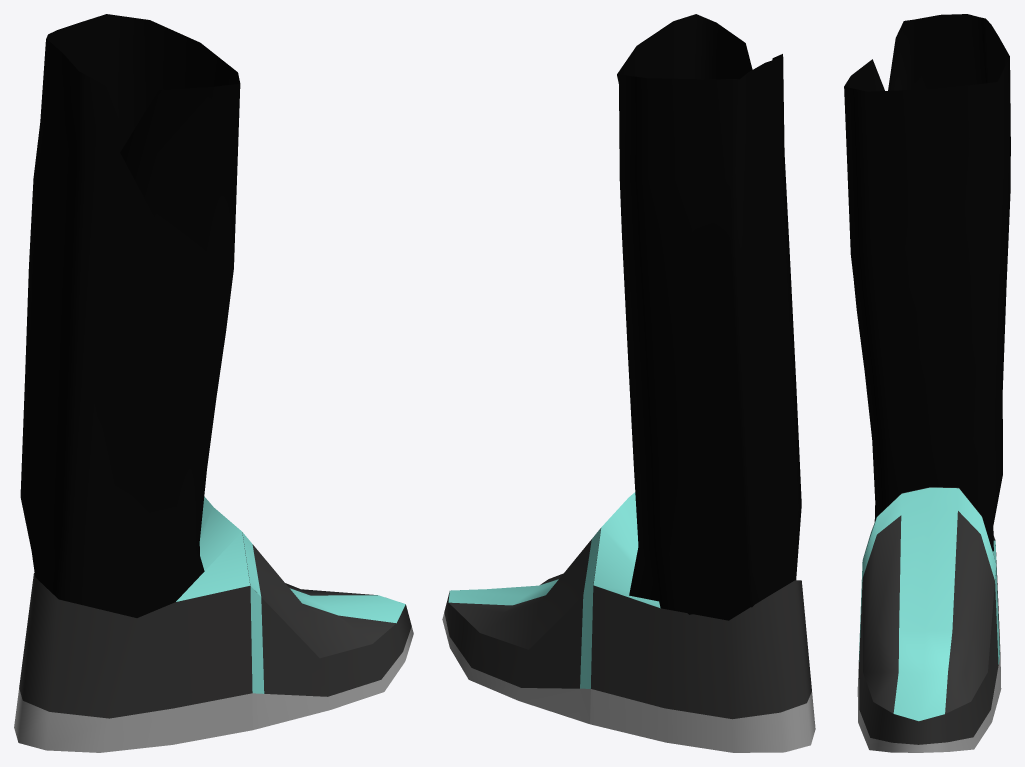
File: Shoe1full.fbx
3 views of the same model, side by side, from view 1: azimuth 30°, elevation 25°; view 2: azimuth 150°, elevation 25°; view 3: azimuth 270°, elevation 25° (orthographic). The views are drawn at different scales.
Parts seen in each view (by area): view 1: pCube185; view 2: pCube185; view 3: pCube185.
Part boxes in pixels (bbox=[...]): pCube185: bbox=[14, 14, 413, 752]; pCube185: bbox=[442, 14, 815, 752]; pCube185: bbox=[844, 14, 1010, 752].
Bounding box in the file's own units: 5.04 × 8.51 × 2.1.
